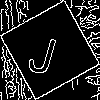J: (25, 25, 63, 77)
